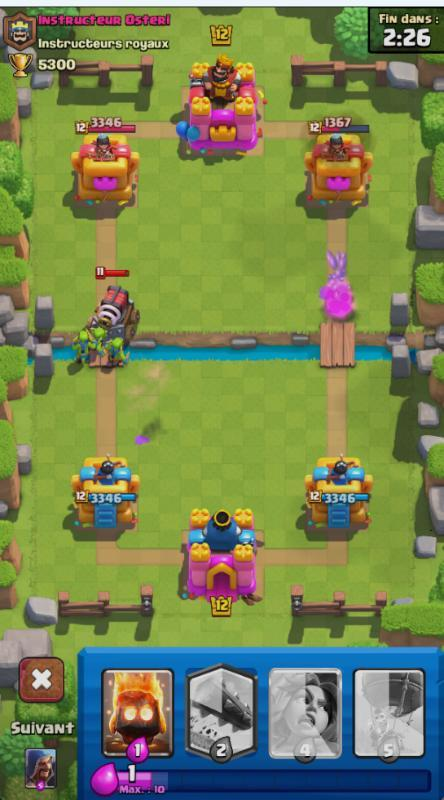enemy_sparky: (83, 278, 144, 332)
player_goblins: (69, 329, 102, 365), (100, 335, 131, 368)
